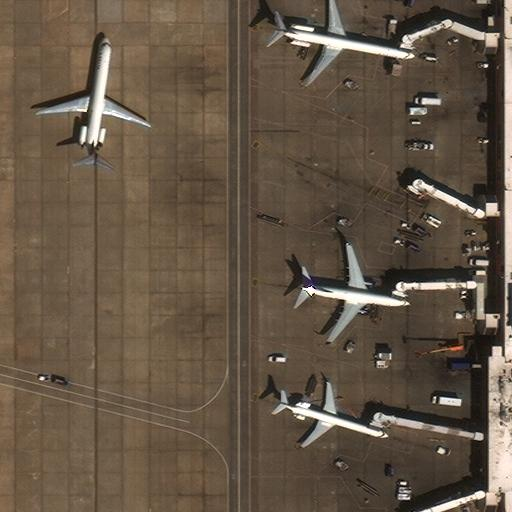Medium Civil Transport: (39, 37, 148, 165), (275, 0, 414, 85), (300, 244, 410, 342), (279, 383, 388, 447)
